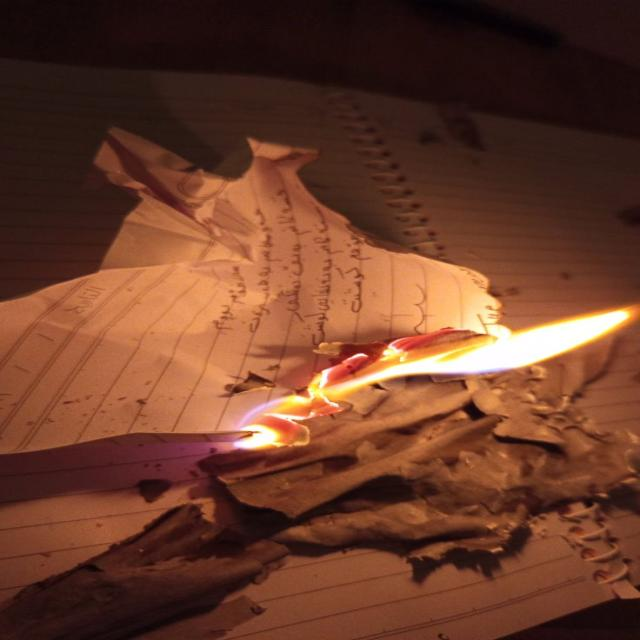fire: (235, 306, 631, 449)
